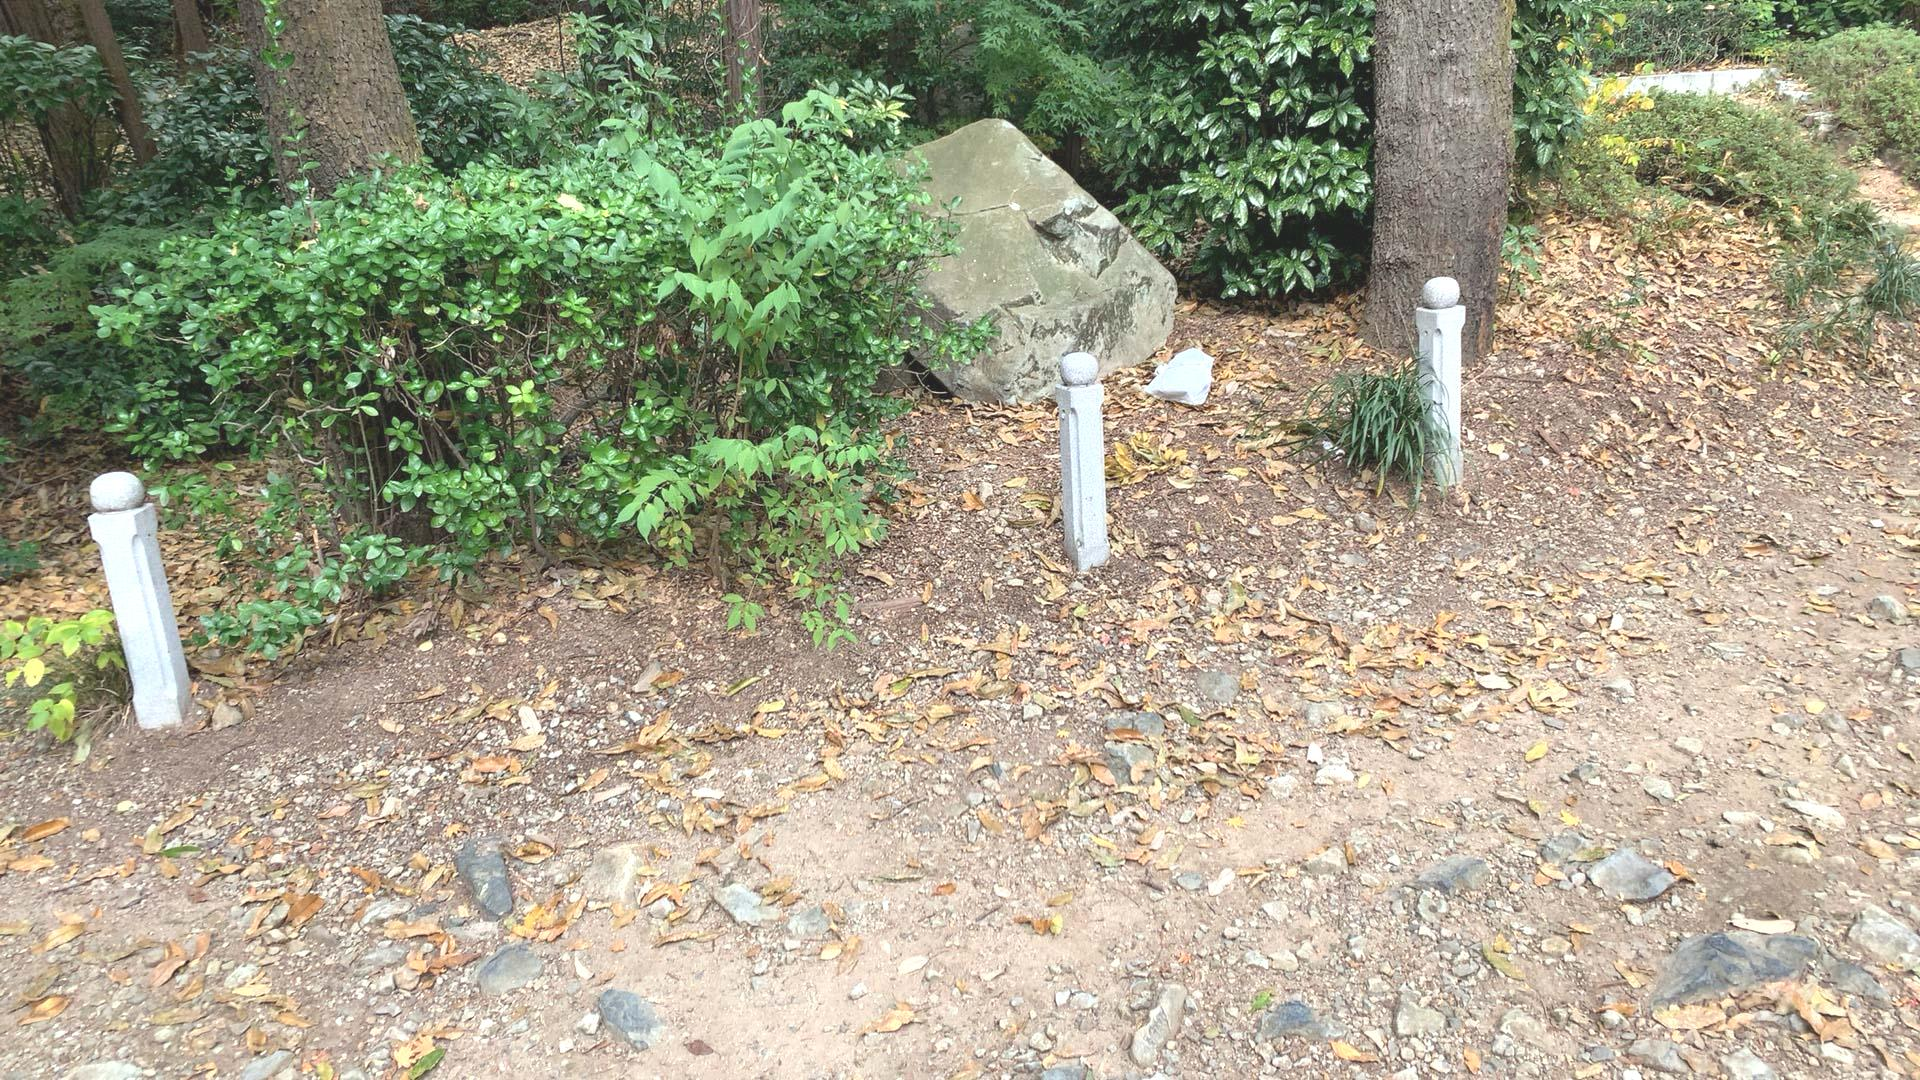white_bag: (1139, 345, 1222, 409)
